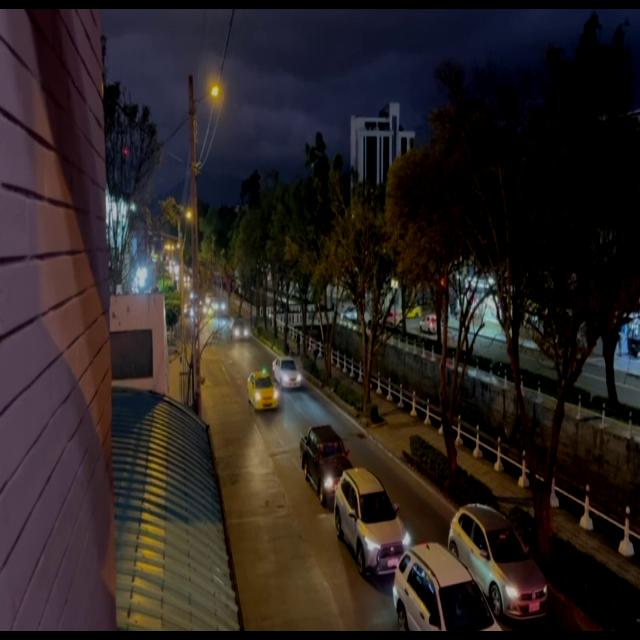CMT: (300, 422, 343, 498)
SUV: (336, 470, 402, 570), (276, 359, 300, 390)
